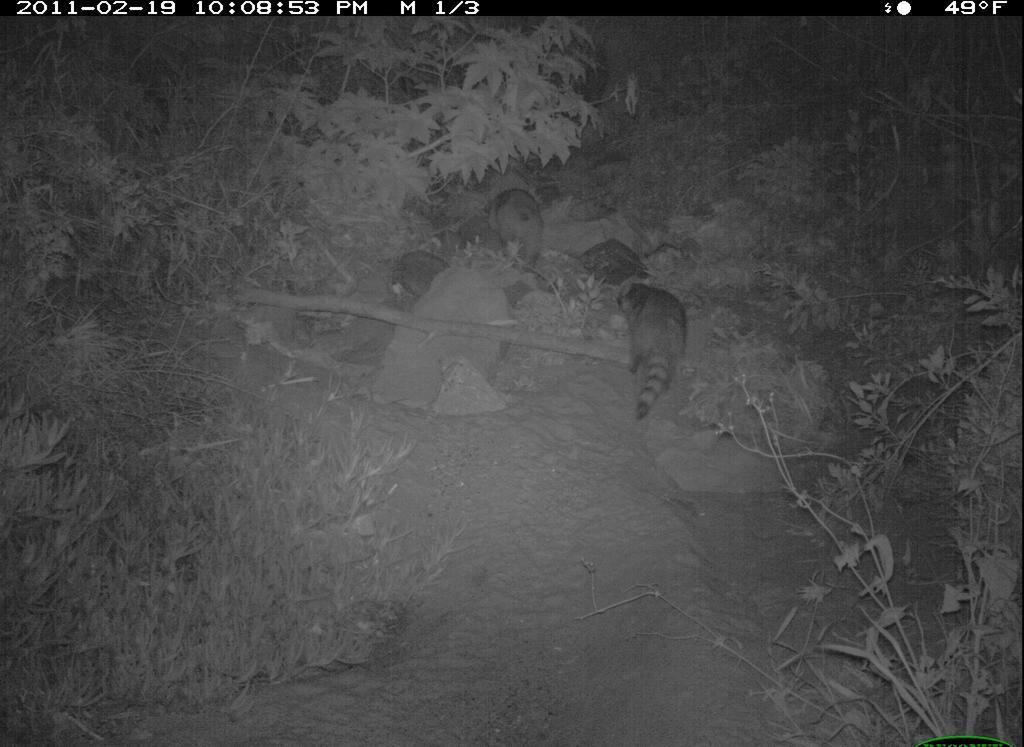raccoon: (606, 277, 692, 428), (475, 181, 541, 271)
